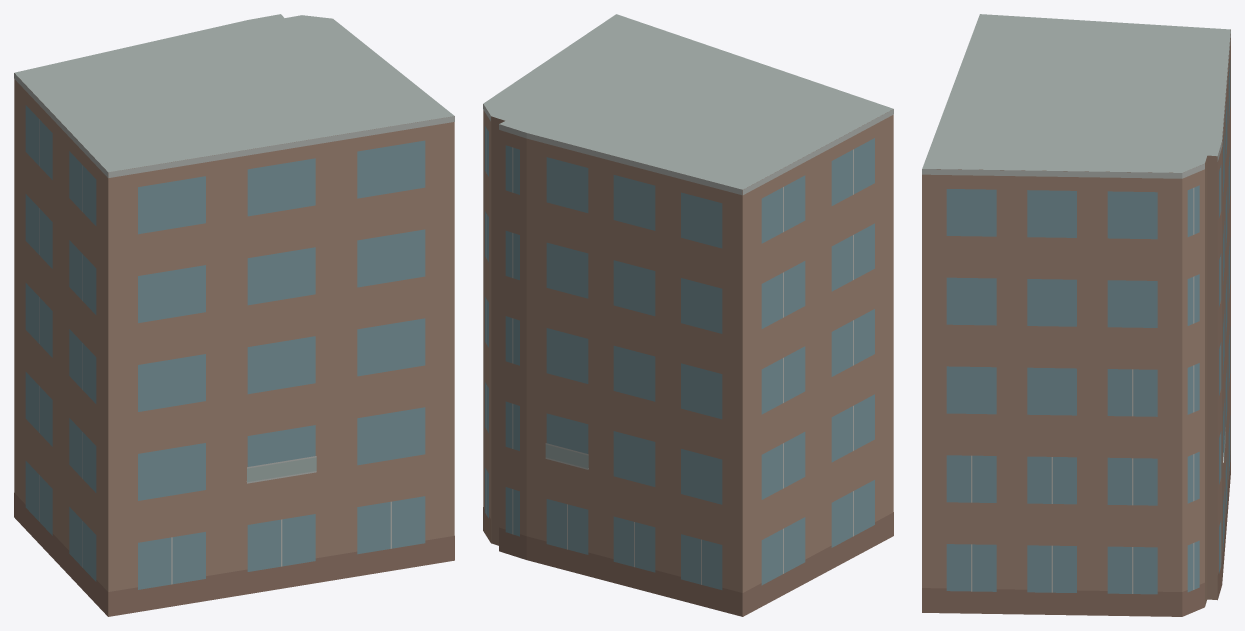
Rendered from survey-upis-32761050.glb.
3 views of the same model, side by side, from view 1: azimuth 30°, elevation 25°; view 2: azimuth 150°, elevation 25°; view 3: azimuth 270°, elevation 25° (orthographic). The views are drawn at different scales.
Visible parts, largest first — view 1: survey-upis-32761050.tmp; view 2: survey-upis-32761050.tmp; view 3: survey-upis-32761050.tmp.
Part boxes in pixels (left/top/right/bottom): survey-upis-32761050.tmp: left=14, top=14, right=454, bottom=616; survey-upis-32761050.tmp: left=483, top=14, right=893, bottom=616; survey-upis-32761050.tmp: left=922, top=14, right=1230, bottom=616.
Size of the model in its own units: 14.21 by 18.5 by 11.67.
